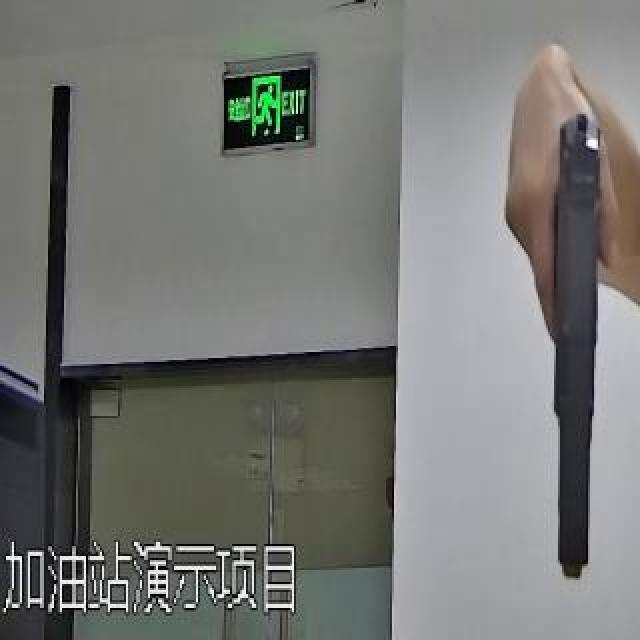Guns: (518, 81, 636, 600)
